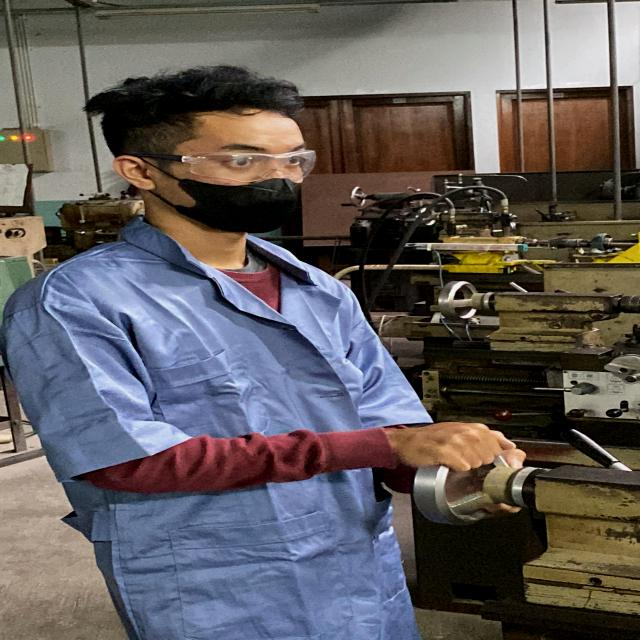face_mask: (155, 143, 325, 235)
glasses: (136, 145, 322, 183)
hand_noglove: (404, 414, 517, 476)
head_nohelmet: (78, 63, 318, 132)
person: (0, 62, 530, 640)
